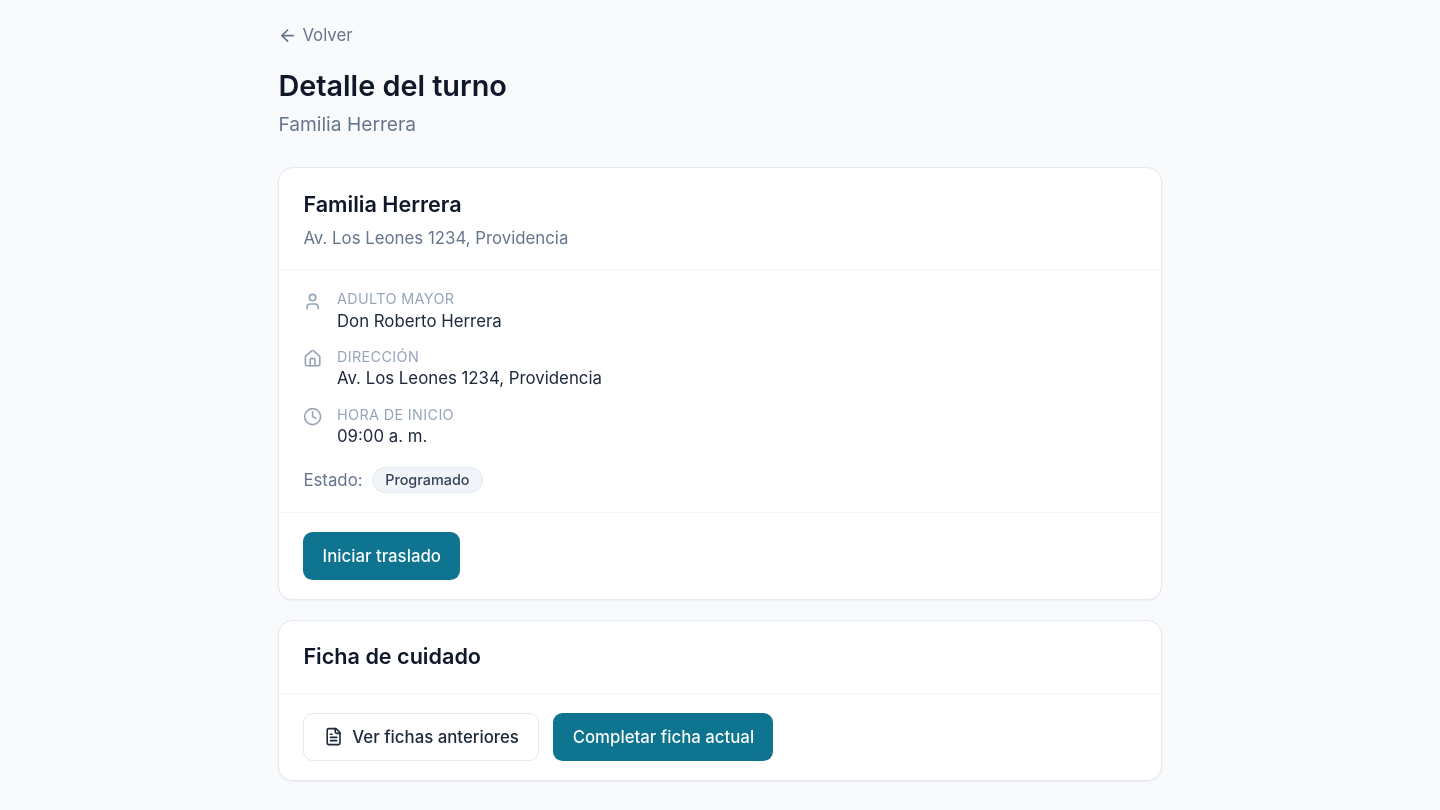
Scenario: ShiftDetail › blocks filling the current record until the caregiver has checked in
(page scrolled)
Click the button "Completar ficha actual": point(663, 737) [554,713,773,761]
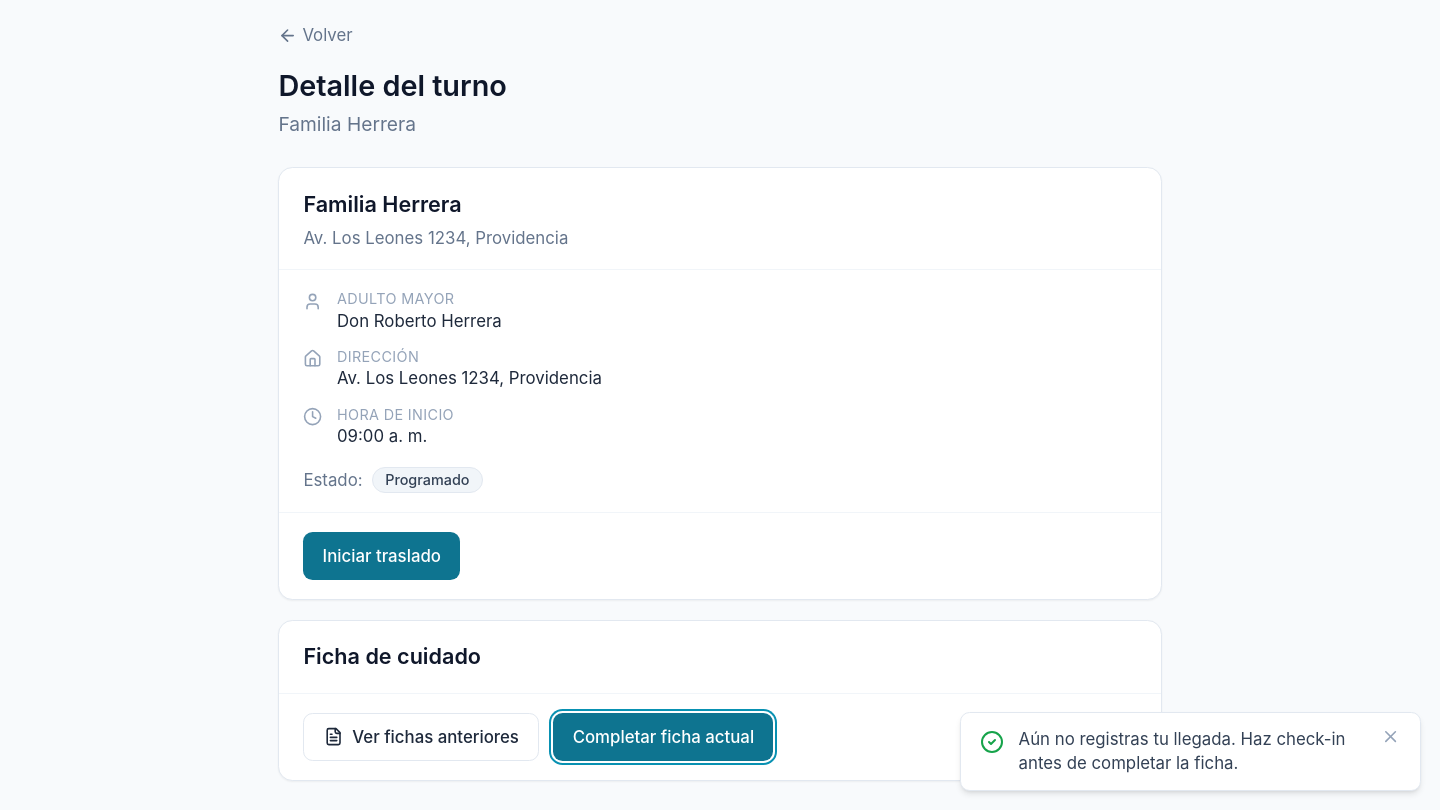
Now the text "Aún no registras tu llegada. Haz check-in antes de completar la ficha." is shown, box [1019,727,1367,775]
